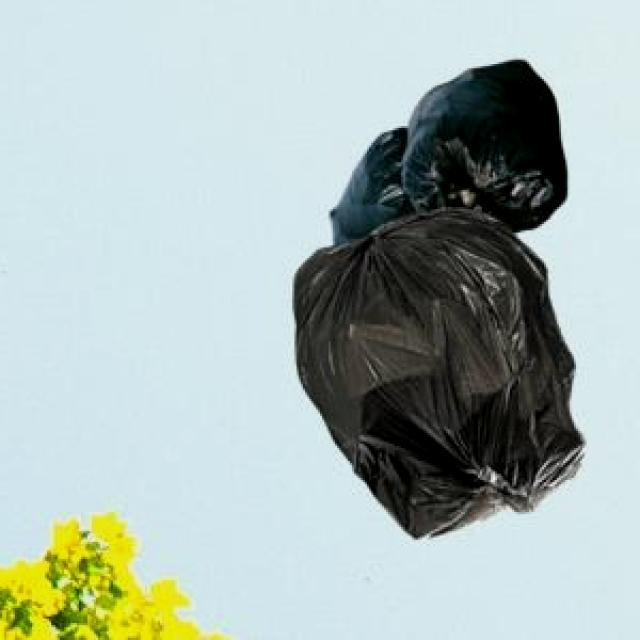Trashbag: (288, 223, 588, 543), (396, 55, 571, 232), (318, 125, 420, 239)
